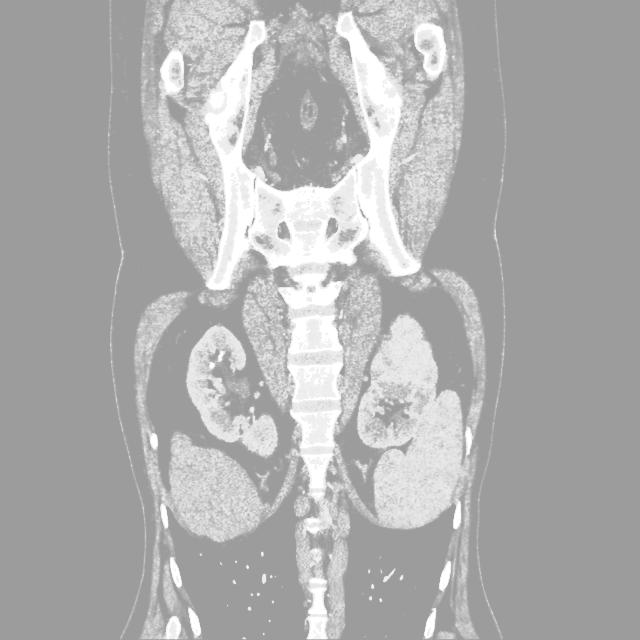TUMOR: (176, 304, 544, 462)
